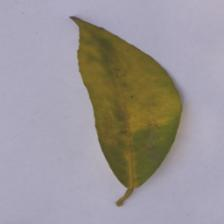greening: (64, 30, 189, 137)
